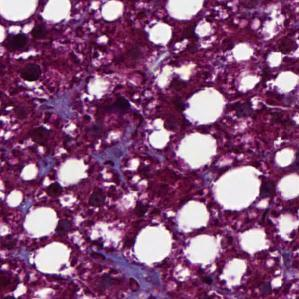steatosis: (210, 165, 264, 212), (131, 225, 174, 266), (184, 83, 227, 123), (21, 208, 62, 236)
